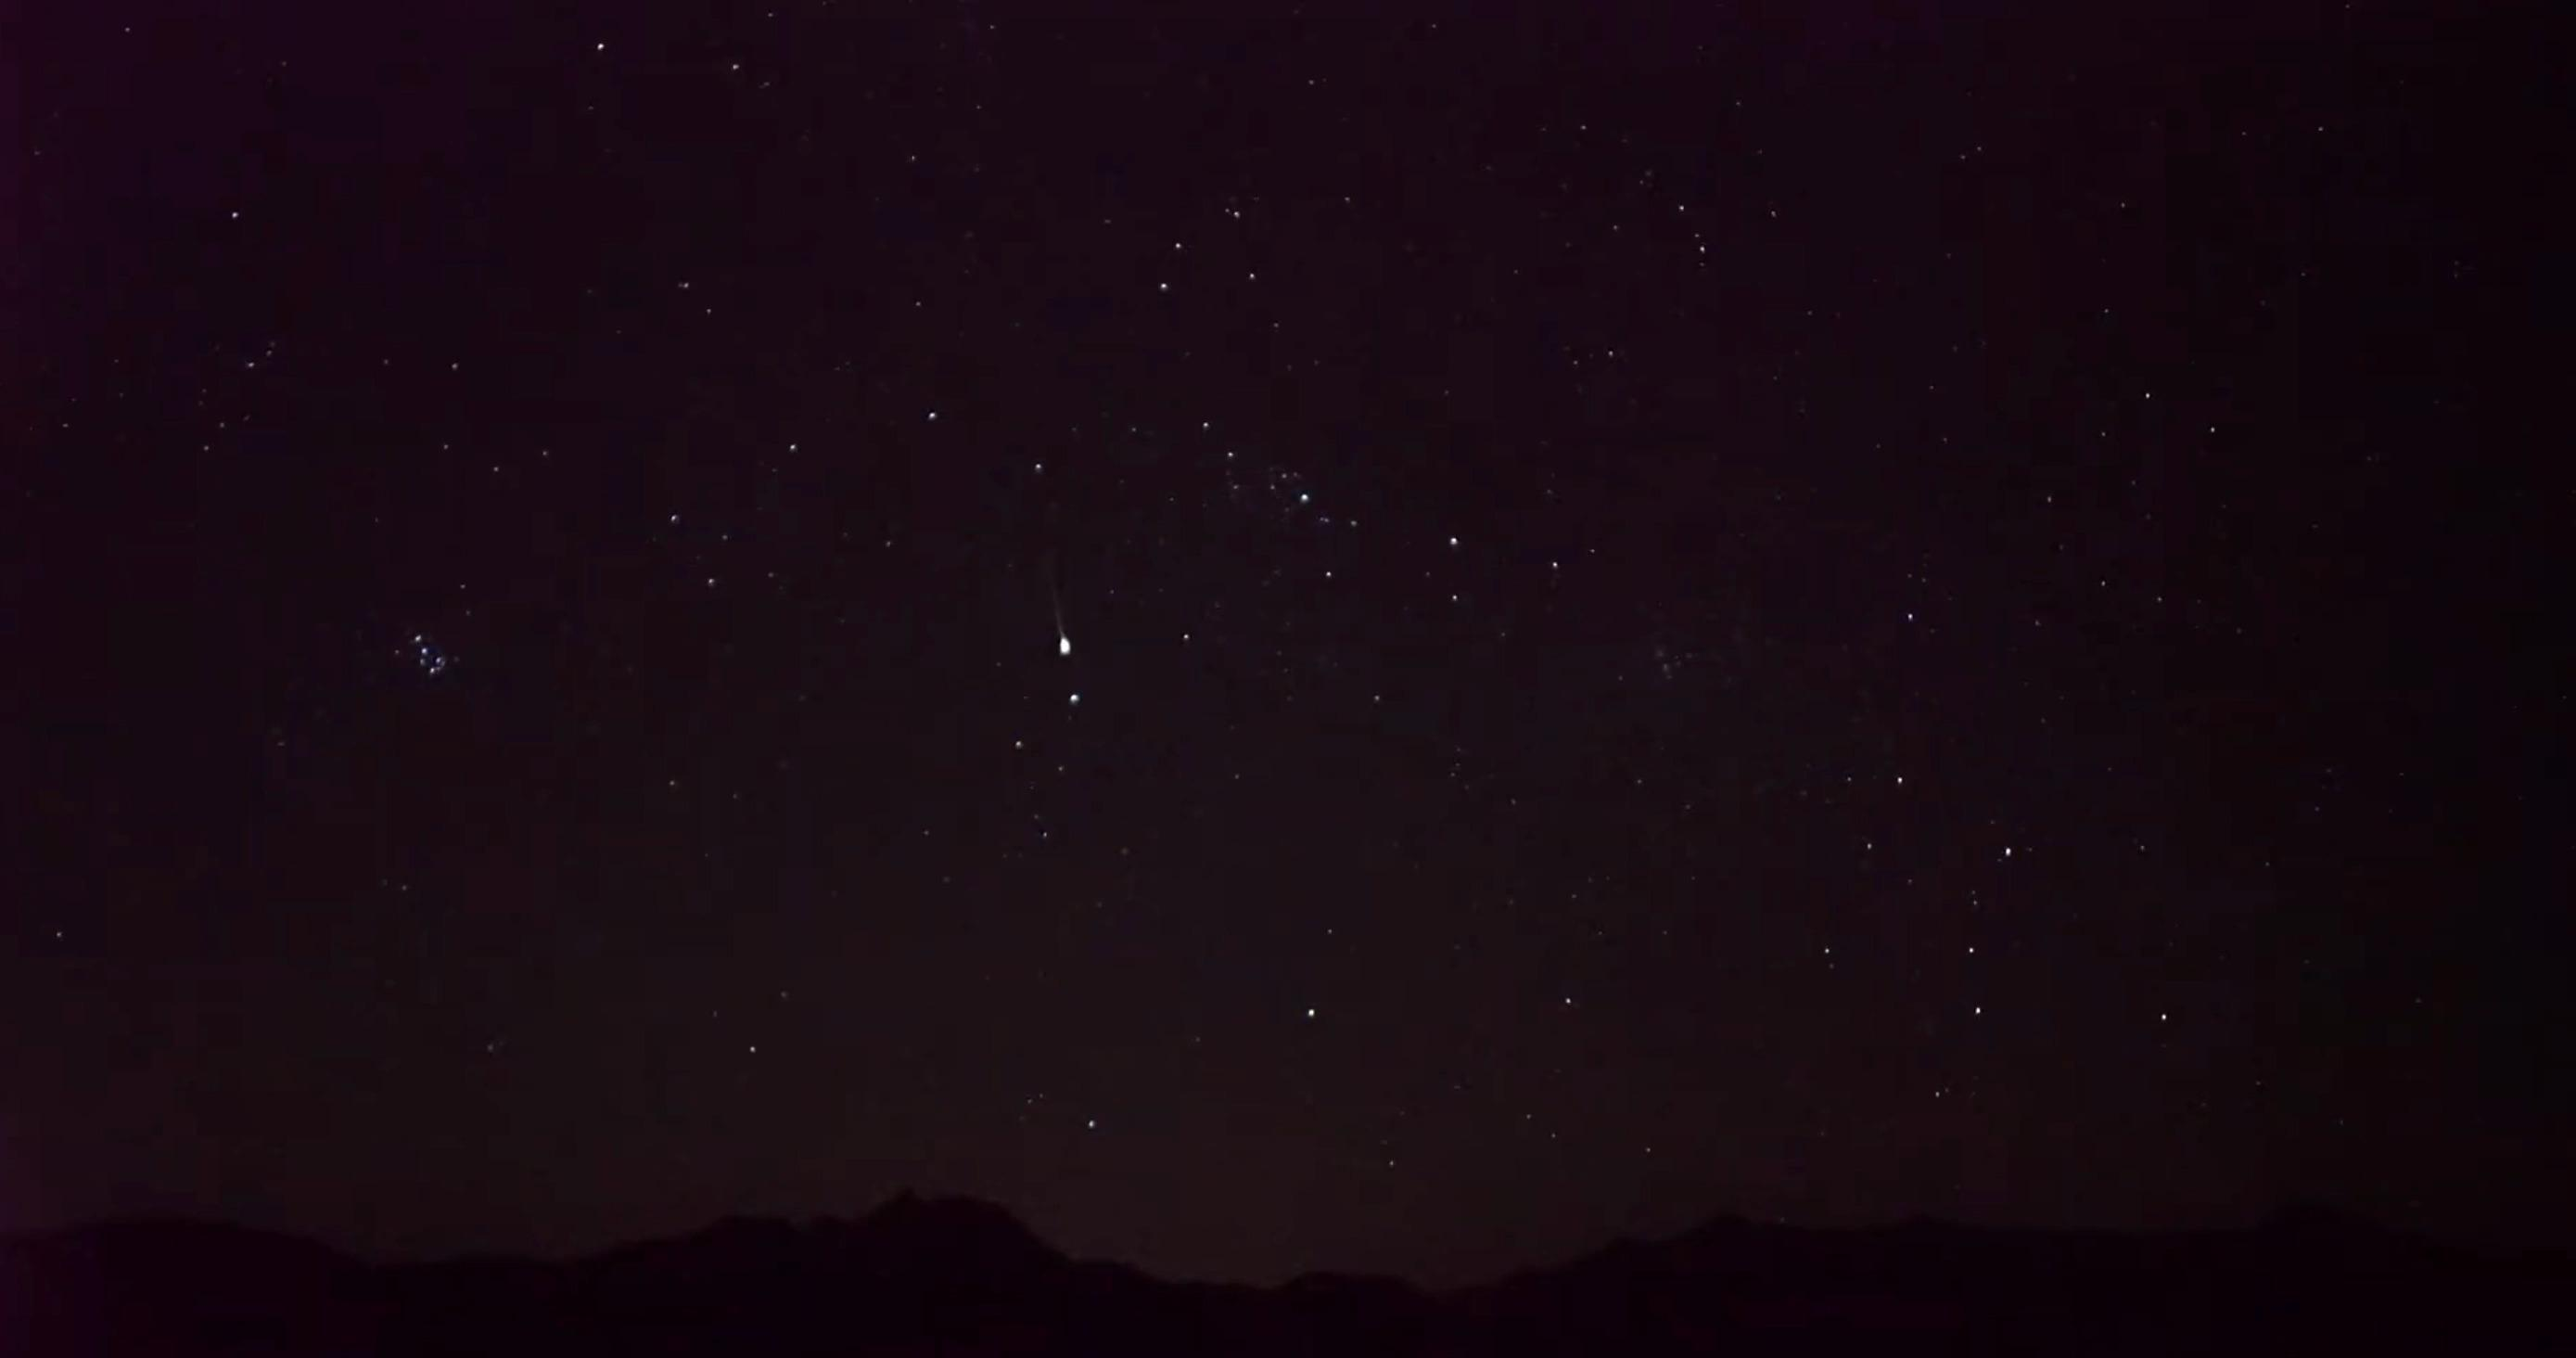meteorite: (997, 561, 1118, 673)
